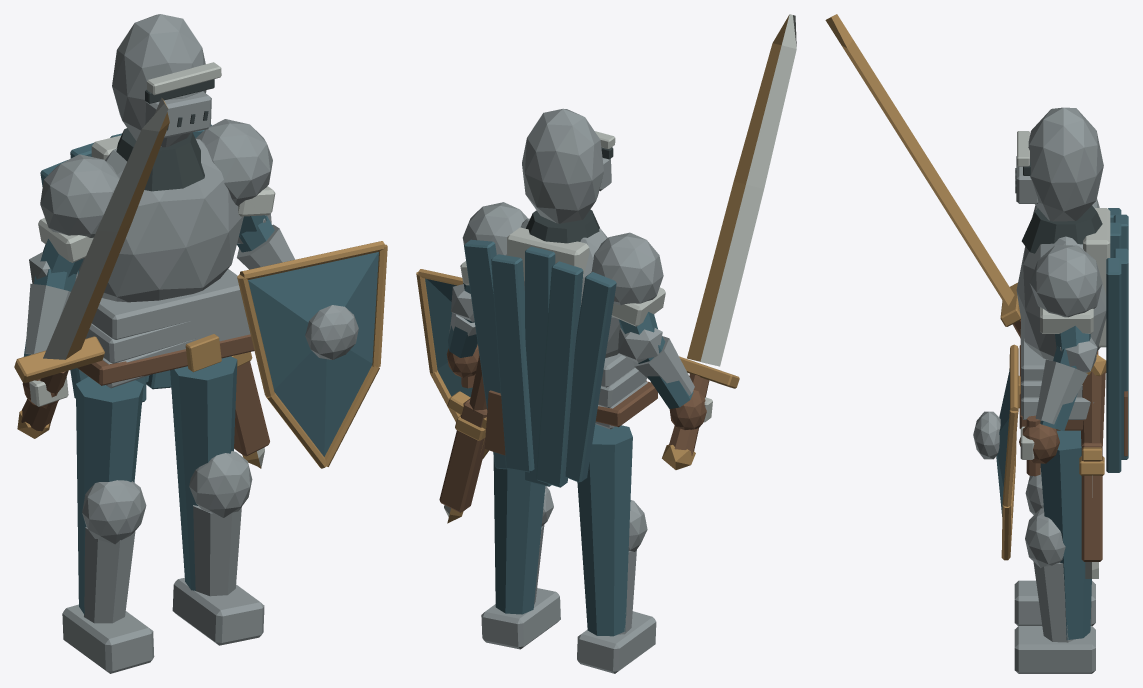
File: knight.glb
3 views of the same model, side by side, from view 1: azimuth 30°, elevation 25°; view 2: azimuth 150°, elevation 25°; view 3: azimuth 270°, elevation 25° (orthographic). The views are drawn at different scales.
Parts seen in each view (by area): view 1: Kite shield, breastplate, forged blade.001, padded leg.001, padded leg, helmet, pauldron, lame, boot, pauldron.001, boot.001, greave (+28 smaller); view 2: forged blade.001, padded leg, helmet, cloak fold.001, cloak fold.003, padded leg.001, cloak fold, cloak fold.002, pauldron, cloak fold.004, boot, boot.001 (+24 smaller); view 3: helmet, padded leg.001, forged blade.001, pauldron.001, cloak fold.004, boot.001, breastplate, greave.001, scabbard, vambrace.001, collar, knee cup.001 (+19 smaller).
Part boxes in pixels (x1,y1,x2,y2): Kite shield: [248, 252, 378, 456]; breastplate: [79, 139, 243, 302]; forged blade.001: [43, 97, 169, 359]; padded leg.001: [170, 356, 237, 590]; padded leg: [76, 376, 143, 614]; helmet: [112, 14, 206, 147]; pauldron: [40, 154, 119, 237]; lame: [92, 269, 244, 339]; boot: [62, 604, 154, 673]; pauldron.001: [195, 119, 272, 206]; boot.001: [172, 577, 264, 645]; greave: [84, 527, 135, 623]; forged blade.001: [687, 14, 796, 366]; padded leg: [577, 424, 632, 636]; helmet: [522, 108, 603, 223]; cloak fold.001: [536, 261, 583, 487]; cloak fold.003: [491, 254, 534, 472]; padded leg.001: [493, 457, 545, 614]; cloak fold: [565, 272, 616, 482]; cloak fold.002: [525, 246, 555, 486]; pauldron: [591, 232, 663, 305]; cloak fold.004: [464, 239, 512, 469]; boot: [577, 611, 656, 673]; boot.001: [481, 588, 560, 649]; helmet: [1028, 107, 1103, 221]; padded leg.001: [1040, 430, 1091, 639]; forged blade.001: [825, 14, 1014, 305]; pauldron.001: [1030, 245, 1102, 317]; cloak fold.004: [1106, 258, 1121, 472]; boot.001: [1014, 626, 1095, 673]; breastplate: [1016, 236, 1106, 360]; greave.001: [1033, 561, 1074, 642]; scabbard: [1081, 442, 1102, 561]; vambrace.001: [1035, 359, 1087, 424]; collar: [1021, 205, 1102, 253]; knee cup.001: [1025, 508, 1065, 567].
Bounding box in the file's own units: 1.3 × 2.25 × 1.08.
